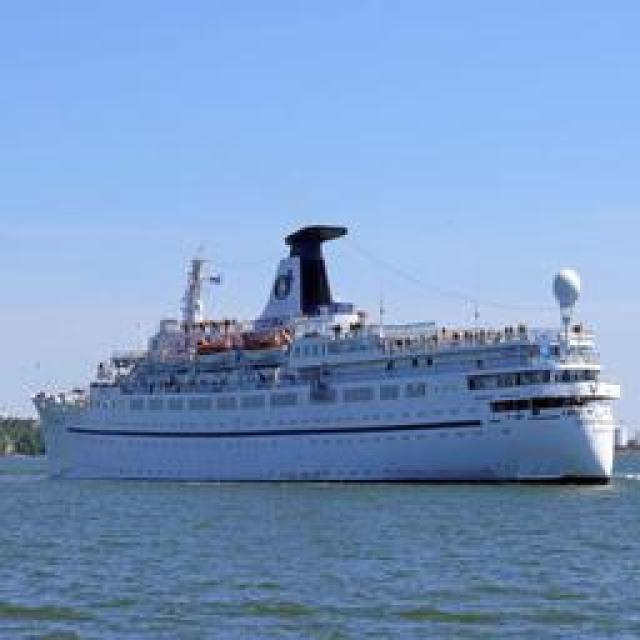CIV_Ship: (26, 221, 629, 484)
